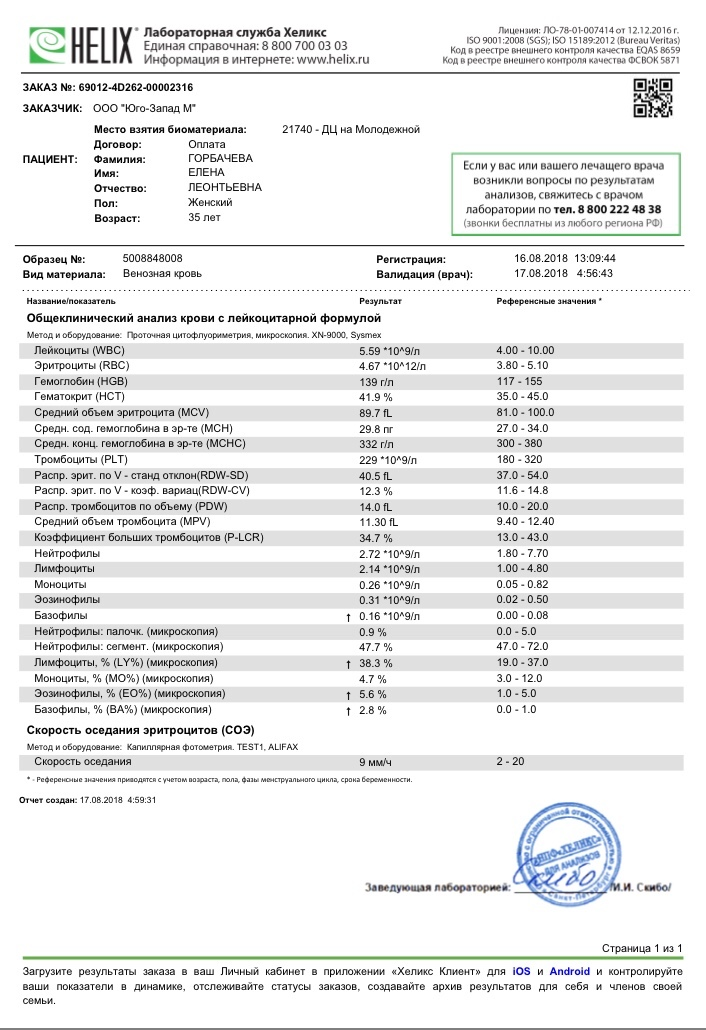column: (33, 344, 264, 715), (358, 344, 426, 715), (495, 344, 554, 715), (33, 755, 132, 767), (496, 297, 596, 306), (26, 297, 116, 306), (358, 755, 392, 767), (359, 297, 402, 306), (496, 755, 524, 767)
